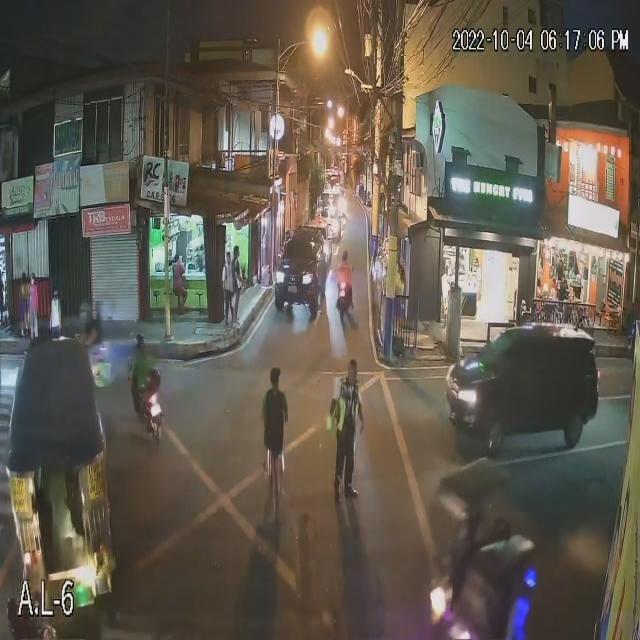helmet: (79, 302, 92, 315), (340, 252, 349, 262), (133, 334, 143, 343)
motorcycle: (128, 368, 167, 431), (80, 351, 116, 384), (337, 282, 356, 313)
rider: (135, 350, 151, 395), (84, 326, 101, 356), (339, 262, 349, 294)
